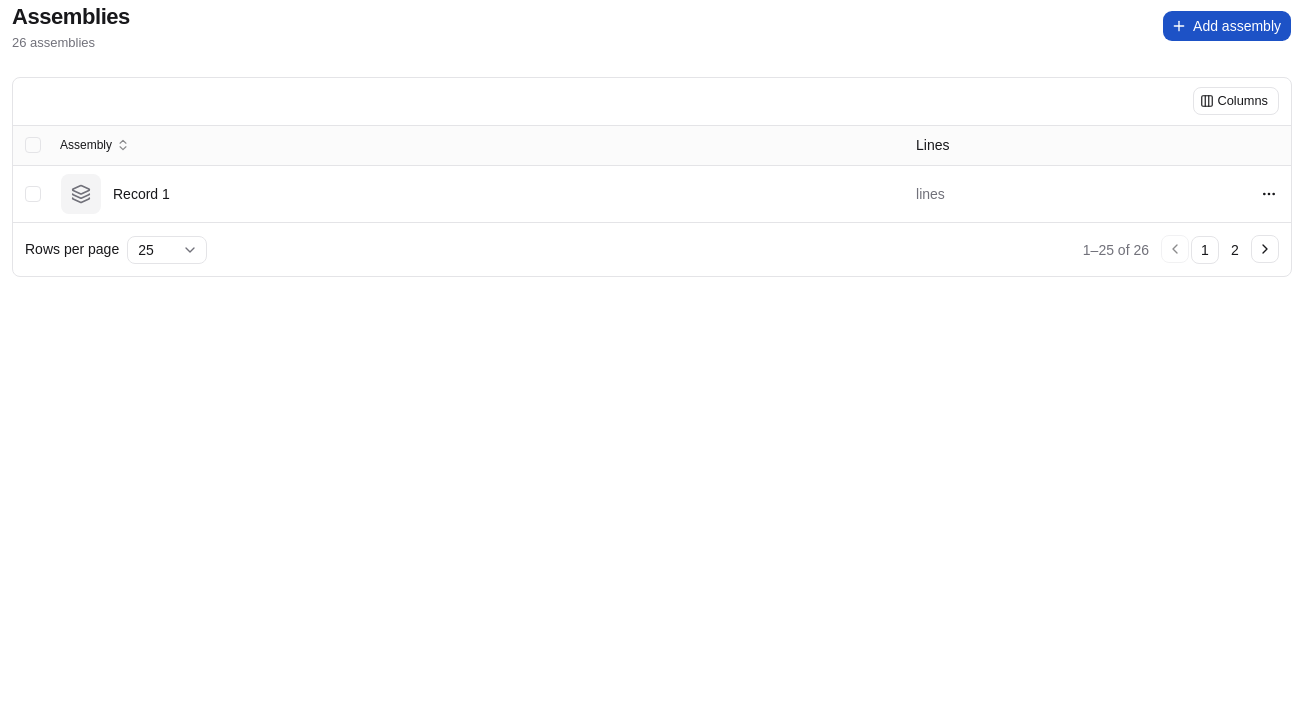
it: Server-paginated resource lists › fetches later assemblies pages and retries failures on the requested page
Check: the link "Record 1" is shown, box [113,184,170,204]
Click the button named "Next table page": (1265,249) [1251,235,1279,263]
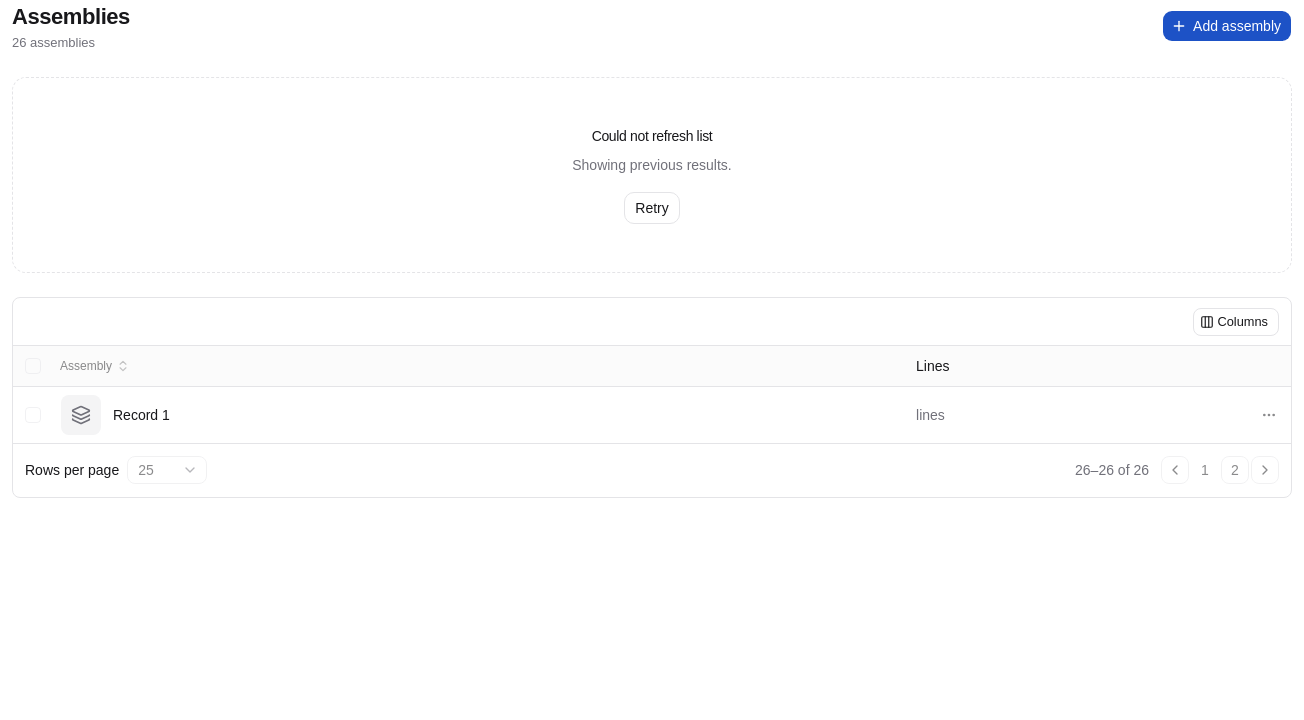
Click the button "Retry": (652,208) [624,192,680,224]
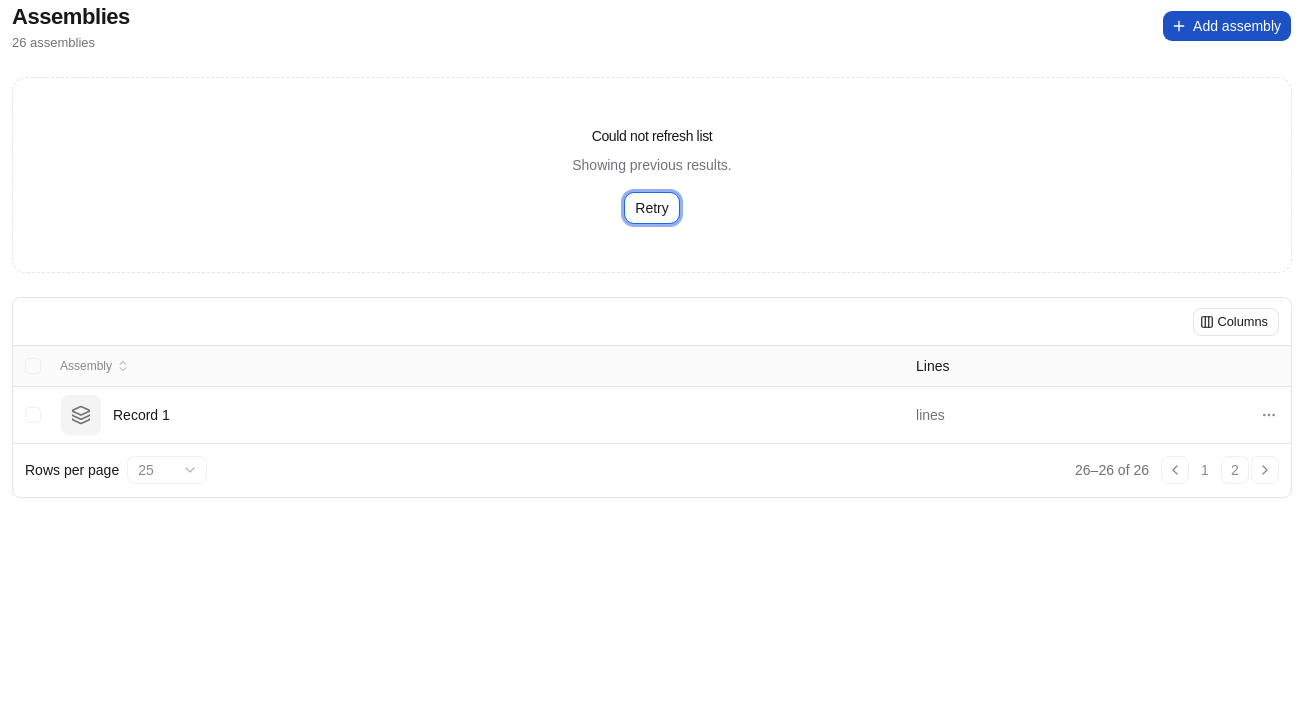
Click the button "Retry": (652,208) [624,192,680,224]
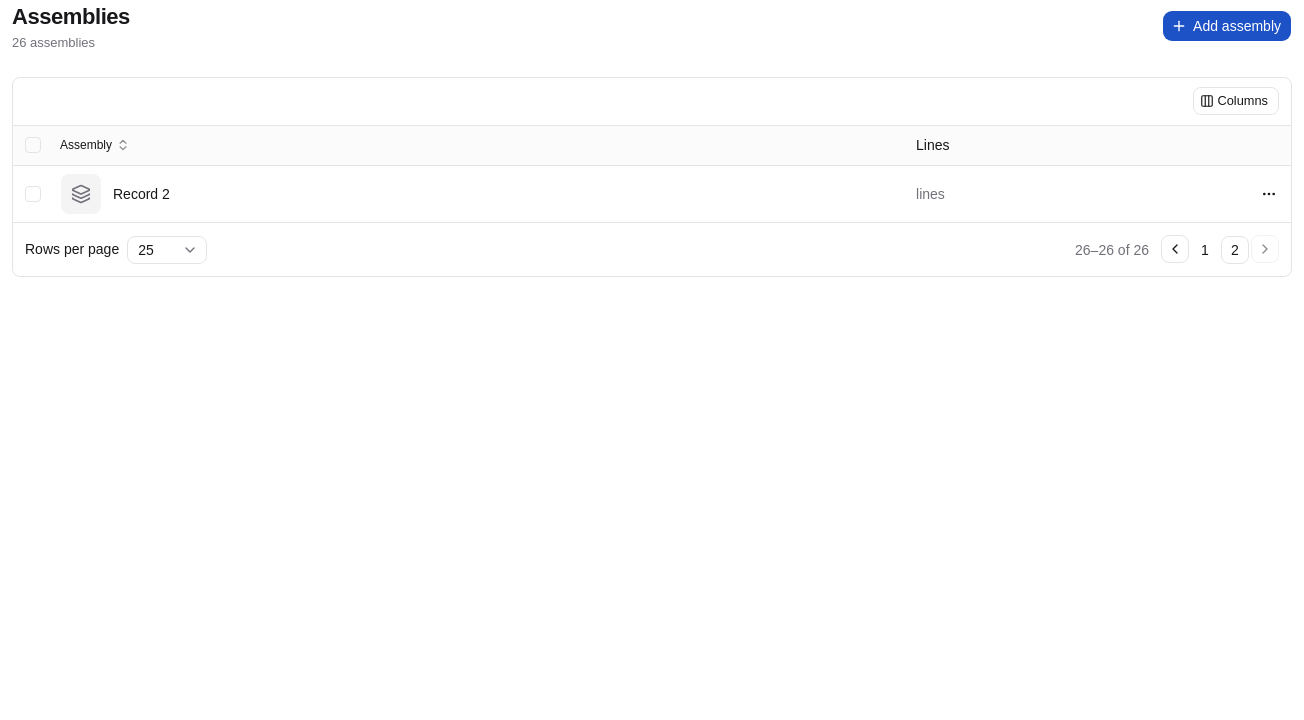
Check: the text "26–26 of 26" is shown, box [1075,240,1149,260]
Check: the link "Record 2" is shown, box [113,184,170,204]
Click the button named "Previous table page": (1175,249) [1161,235,1189,263]
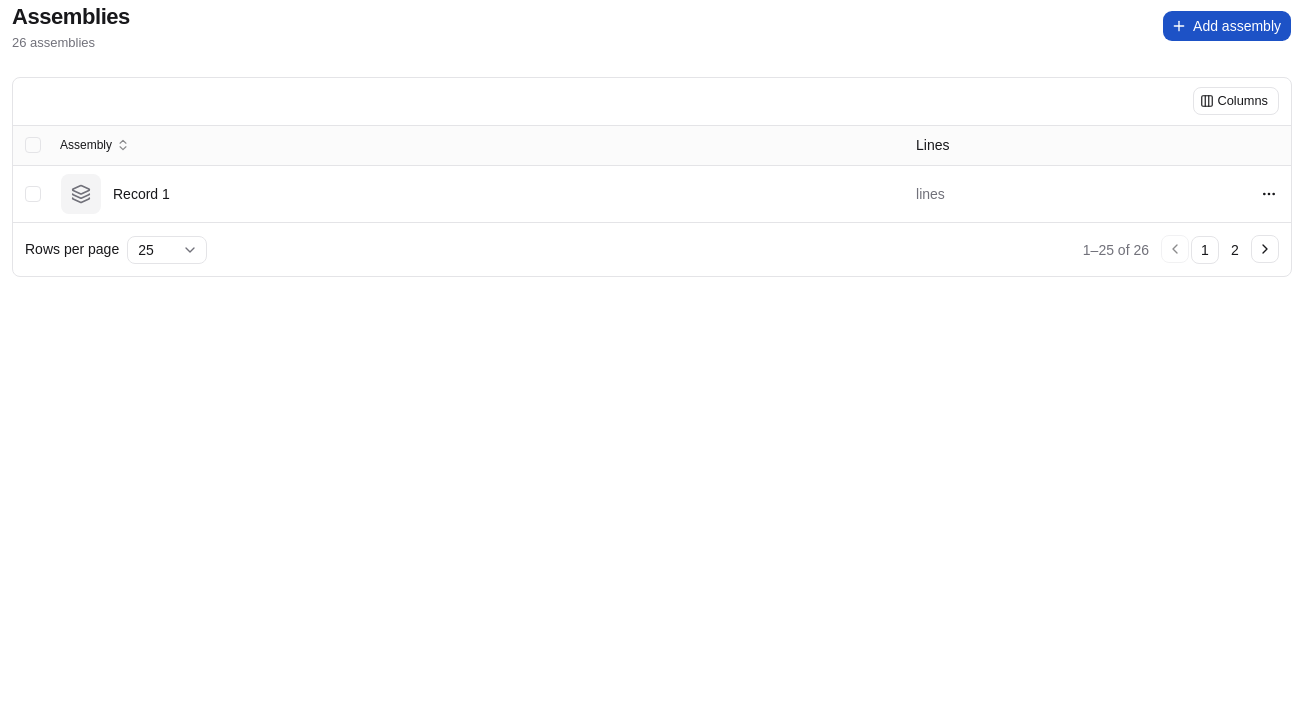
Check: the link "Record 1" is shown, box [113,184,170,204]
Click the dropdown named "Rows per page": (167,250) [127,236,207,264]
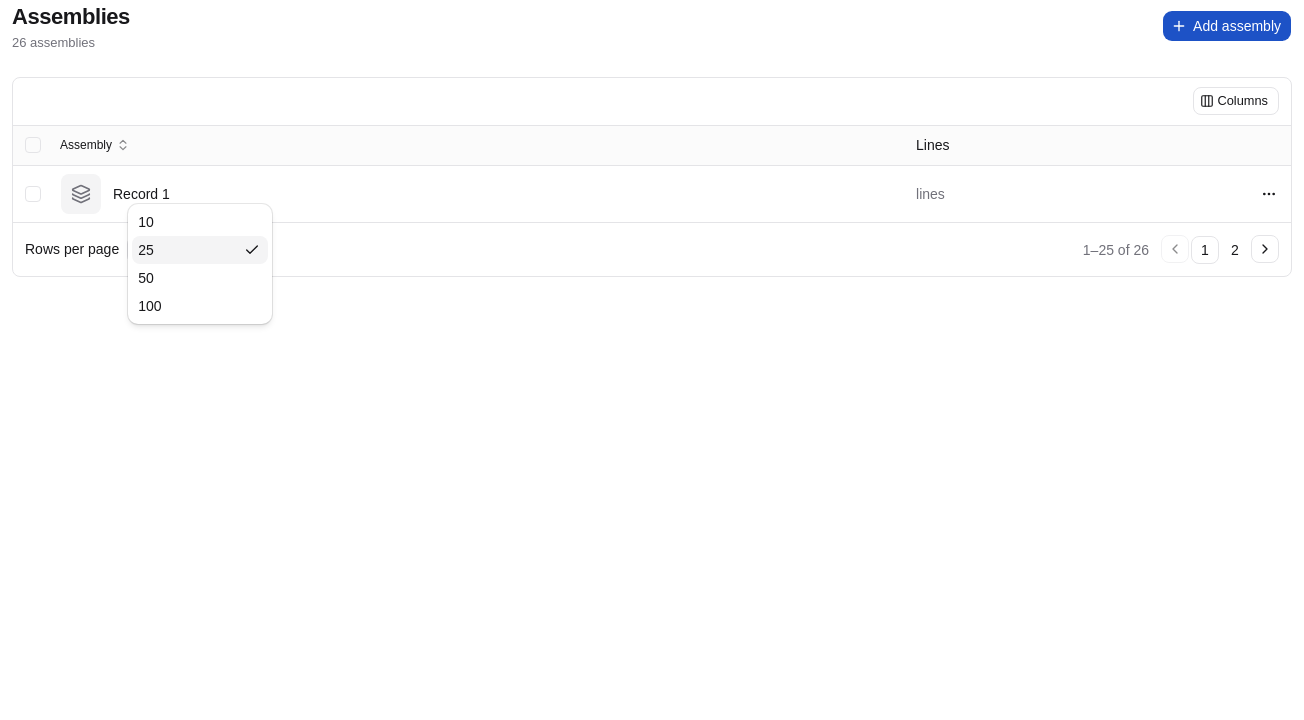
Click the option "10": (146,222) [138,214,154,230]
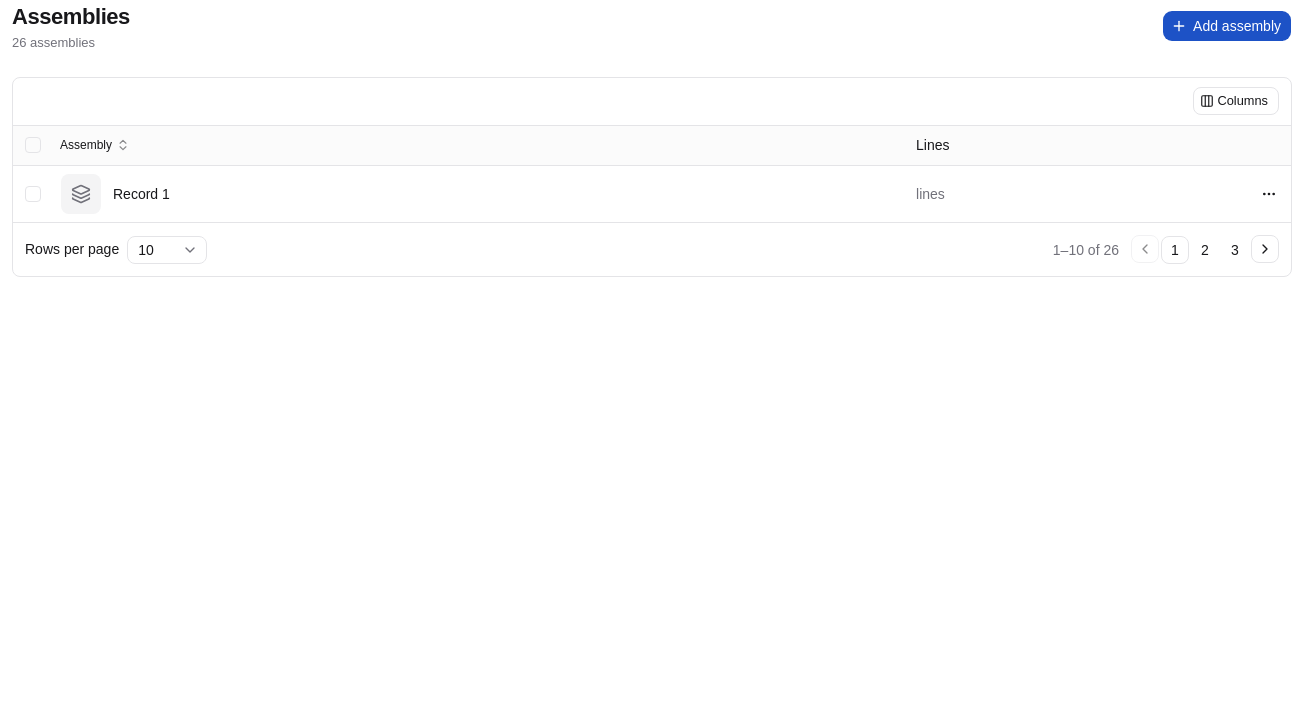
Check: the text "1–10 of 26" is shown, box [1053,240,1119,260]
